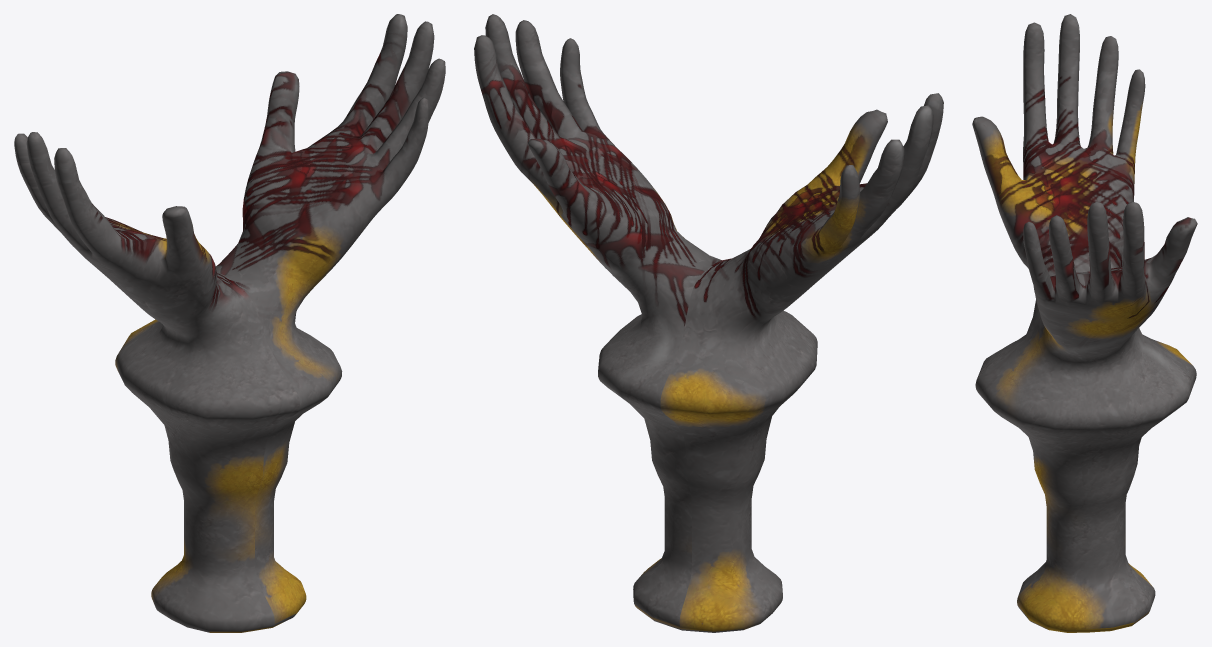
File: mainFoetus+Materiaux.fbx
The picture shows the model from 3 angles, left to right: view 1: azimuth 30°, elevation 25°; view 2: azimuth 150°, elevation 25°; view 3: azimuth 270°, elevation 25°; orthographic projection. The views are drawn at different scales.
Visible parts, largest first — view 1: AnatomyHandHumanMale2:hand_basemesh1; view 2: AnatomyHandHumanMale2:hand_basemesh1; view 3: AnatomyHandHumanMale2:hand_basemesh1.
Boxes of the visible parts, x1,y1,x2,y2 form: AnatomyHandHumanMale2:hand_basemesh1: [14, 14, 445, 632]; AnatomyHandHumanMale2:hand_basemesh1: [474, 14, 943, 632]; AnatomyHandHumanMale2:hand_basemesh1: [972, 14, 1197, 632].
Size of the model in its own units: 31.55 by 38.13 by 15.6.
